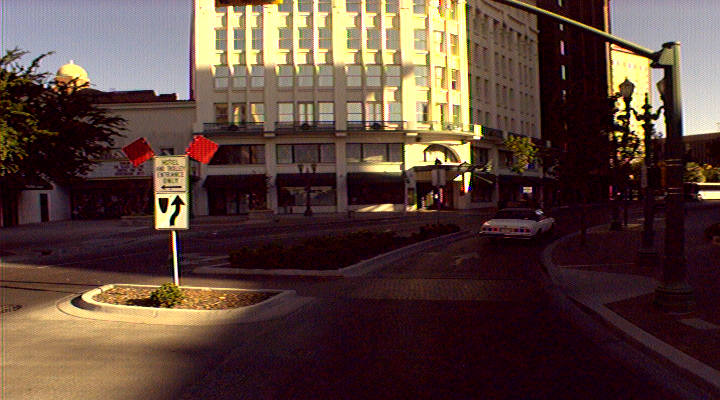Ramp: (538, 262, 666, 314)
